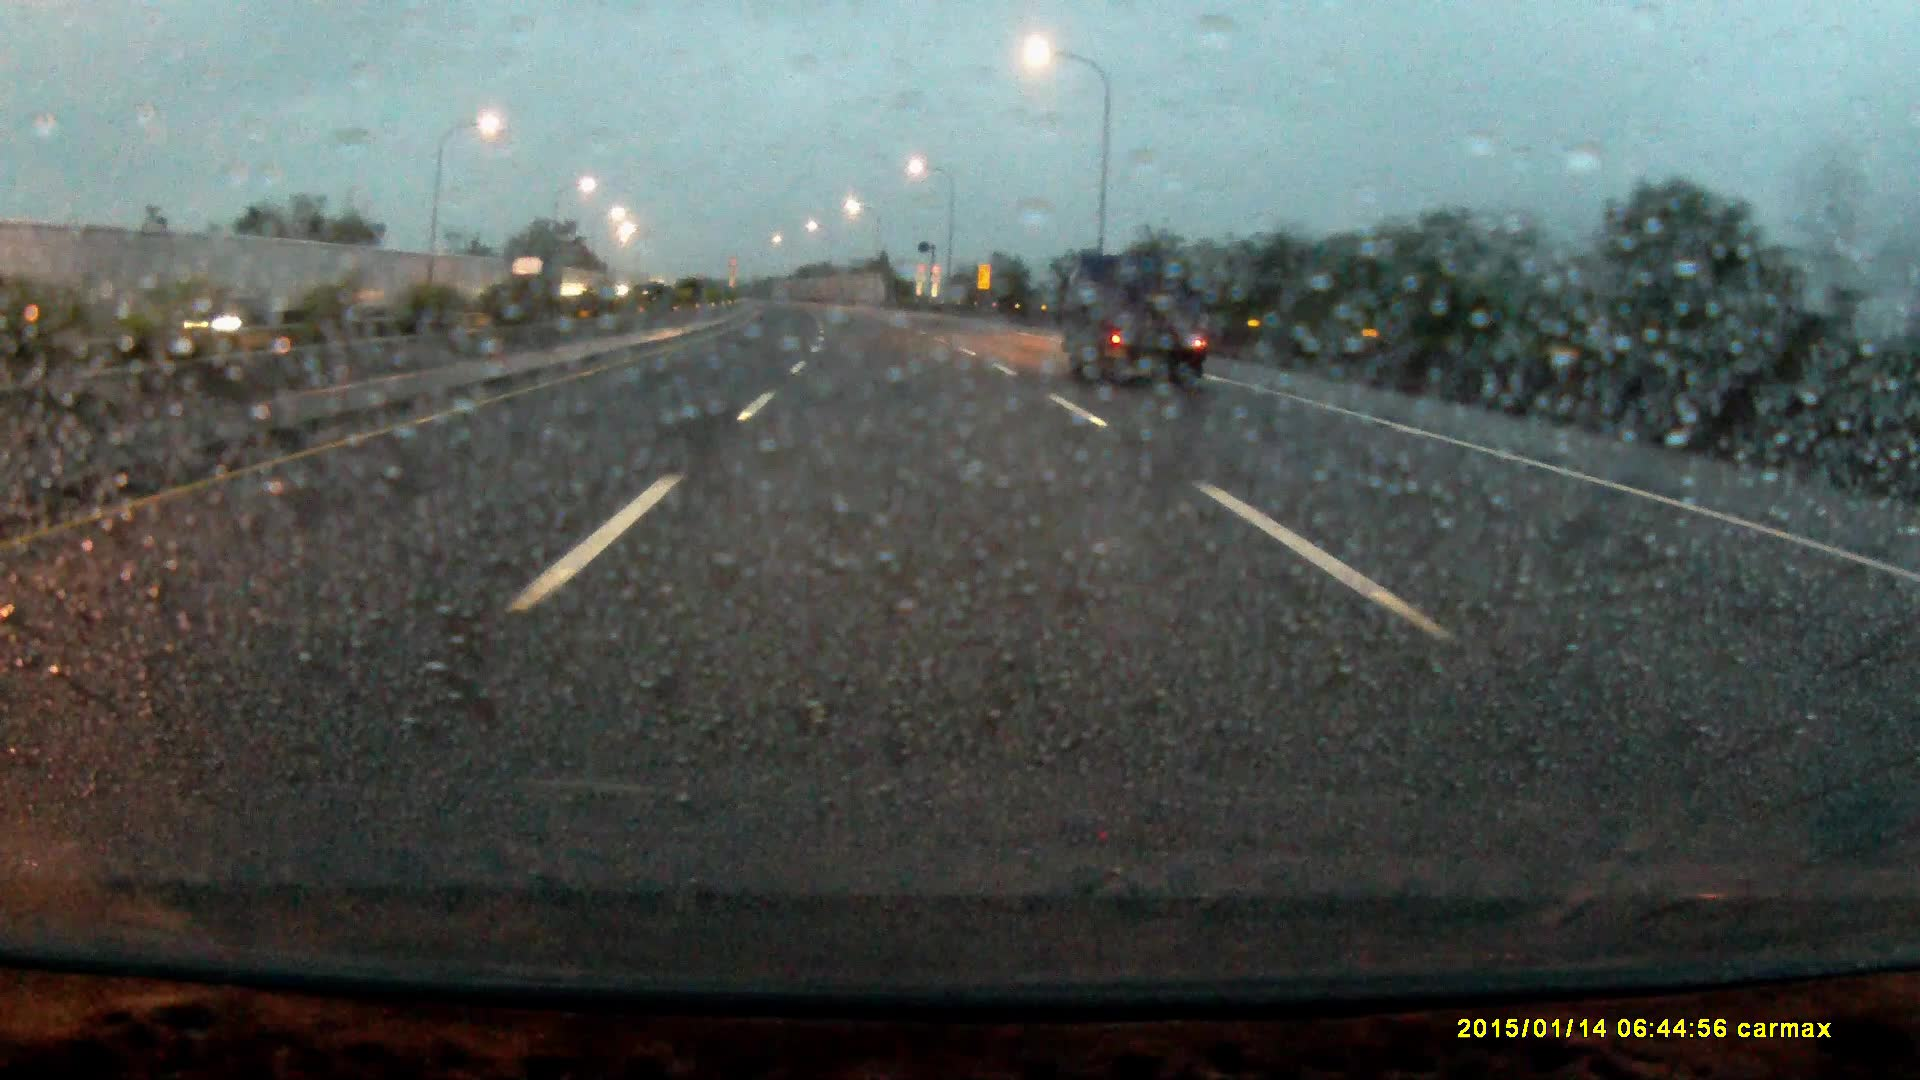vehicle: (1062, 252, 1207, 400), (508, 255, 563, 324)
